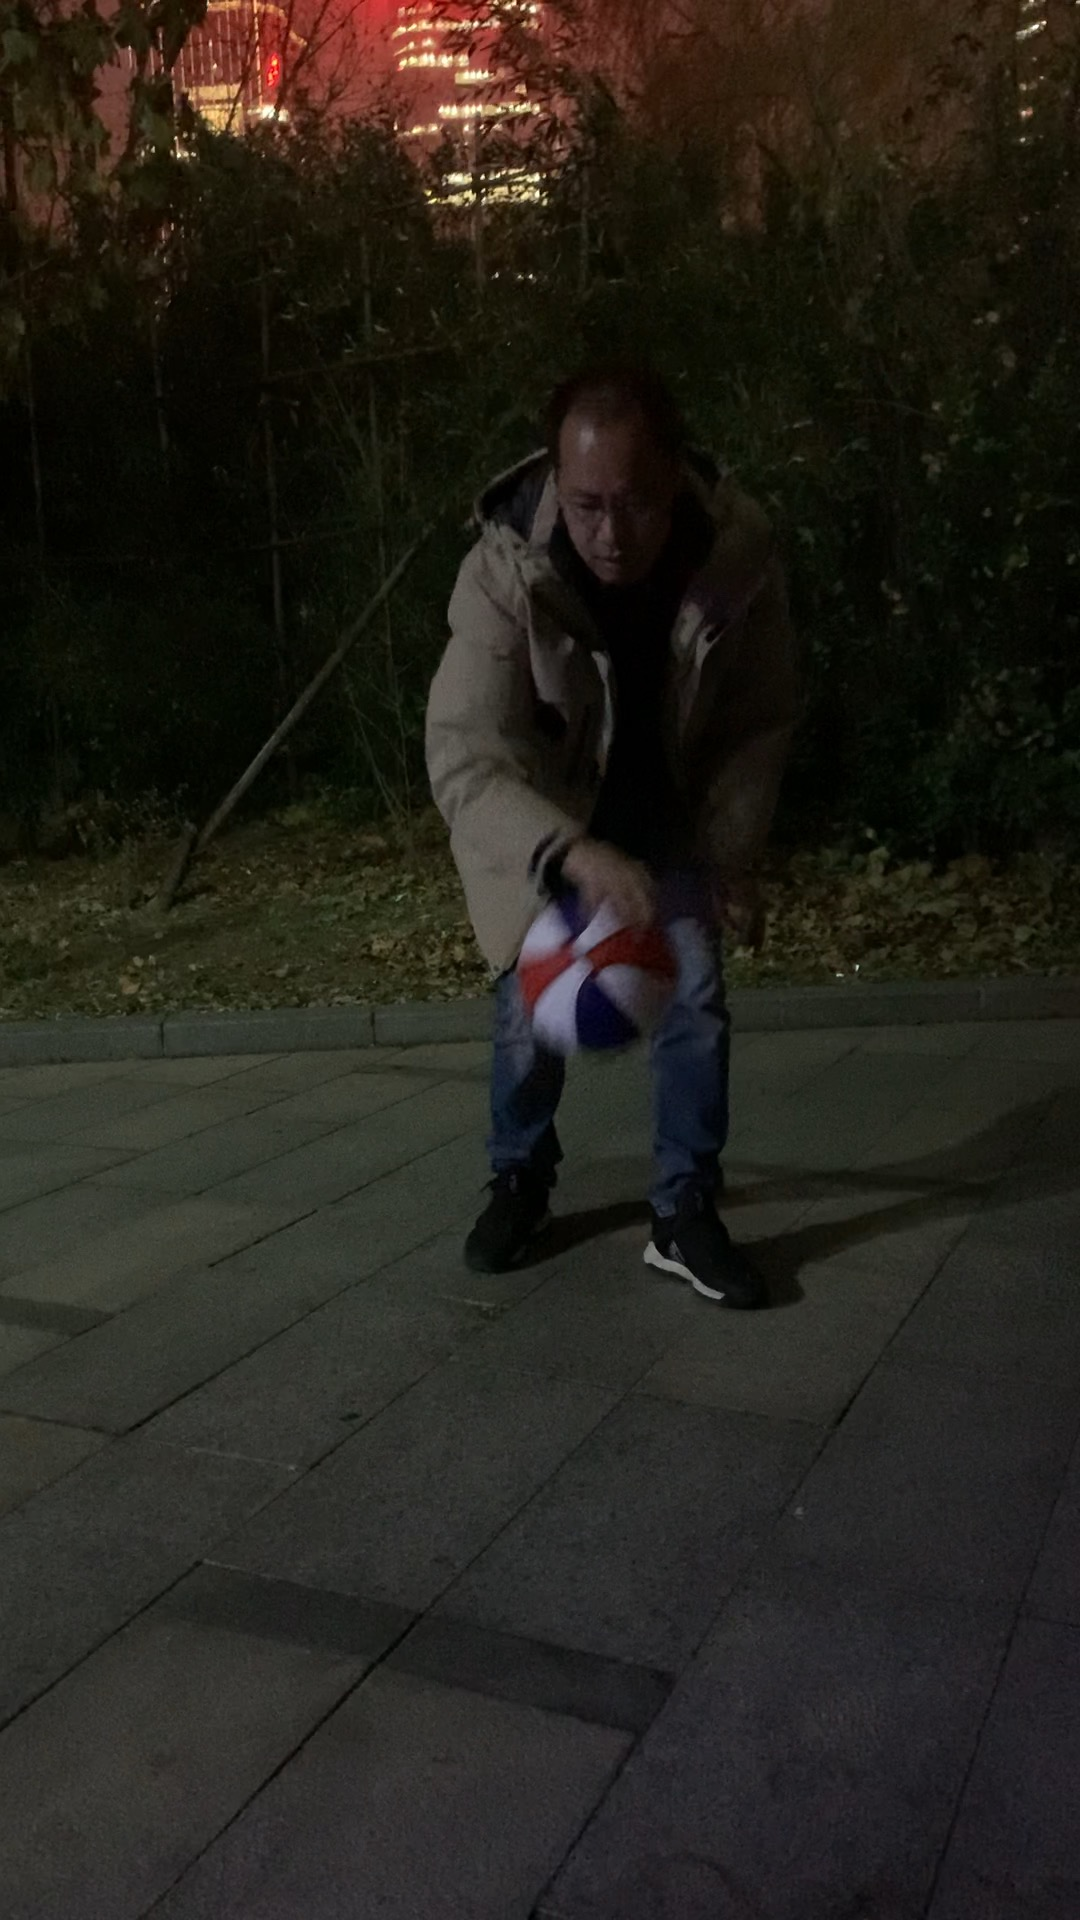ball: (522, 895, 684, 1065)
